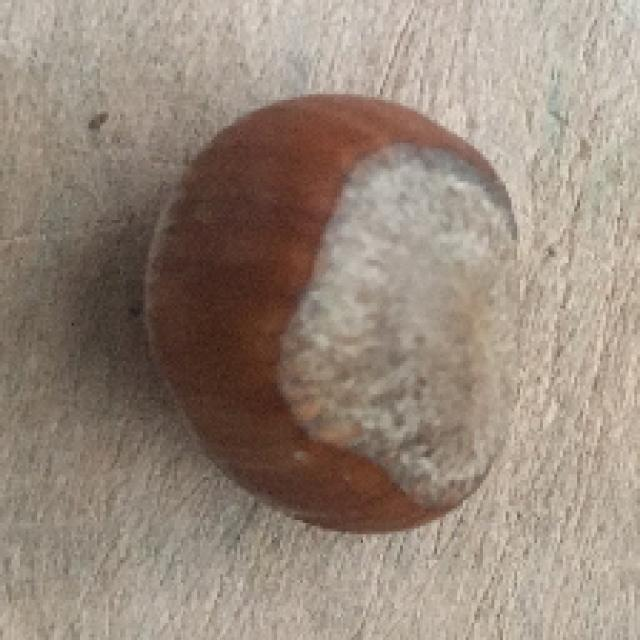qualityHazelnut: (146, 90, 524, 534)
